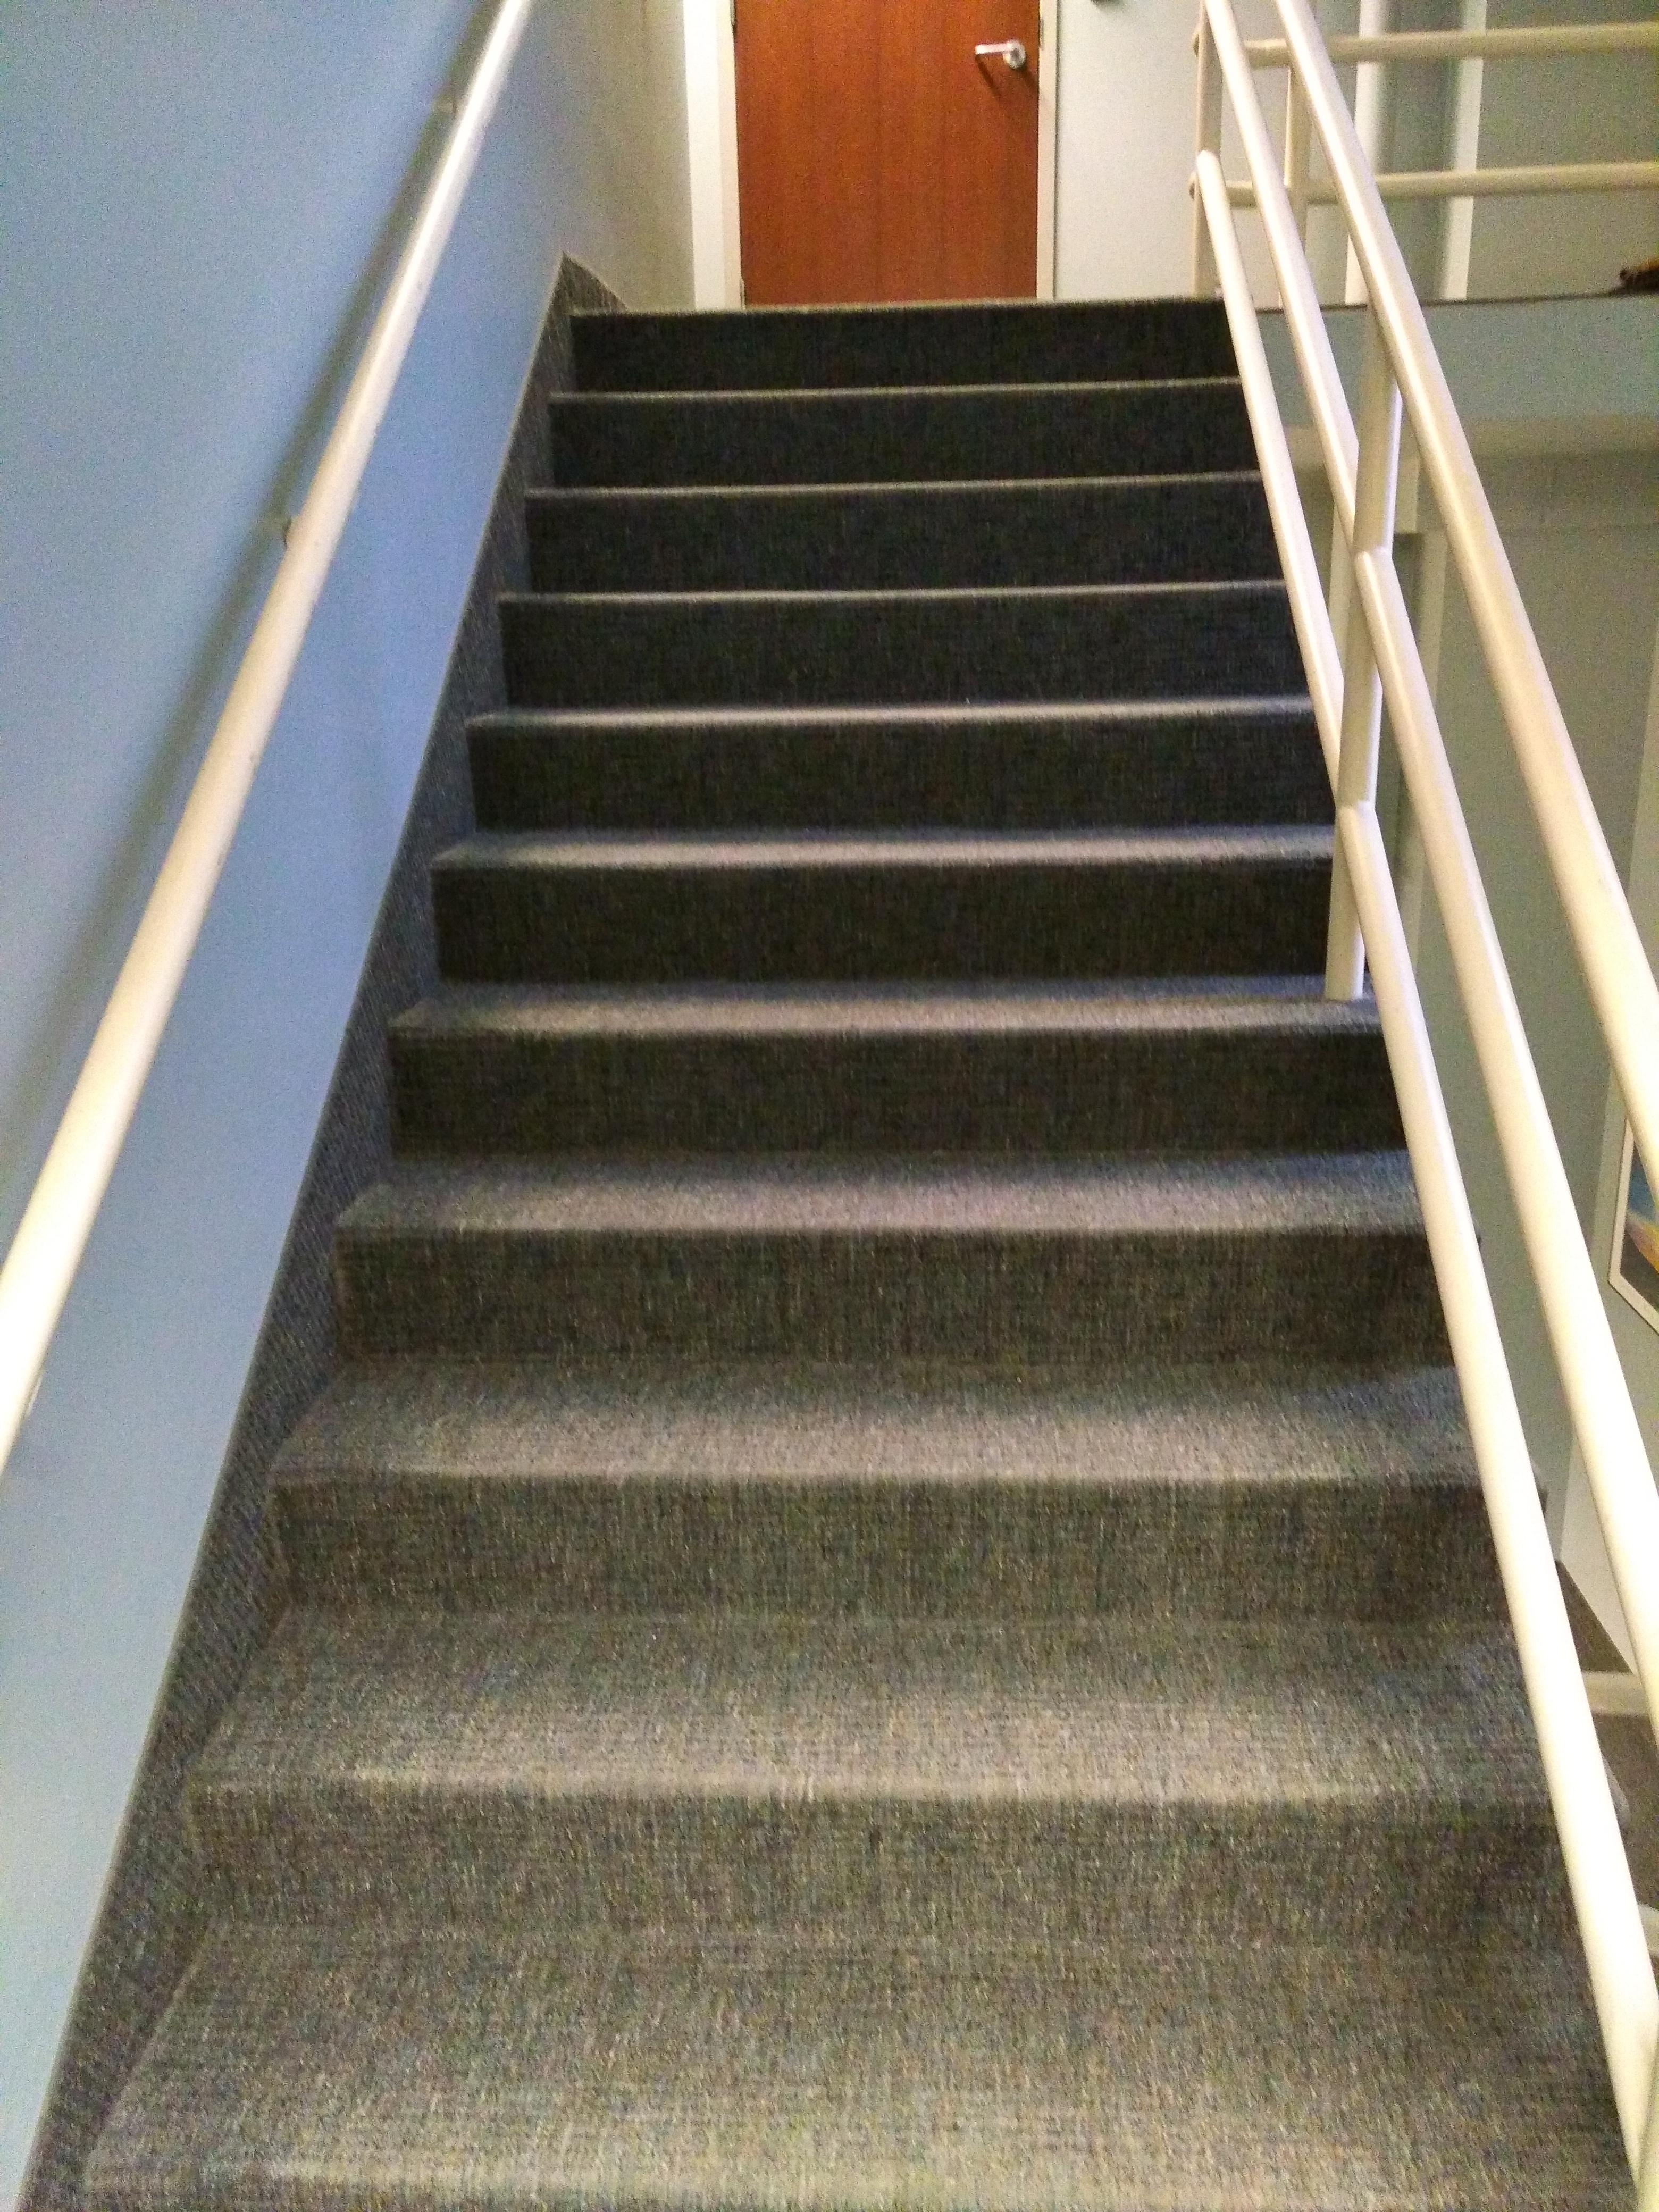stairs_up: (256, 246, 1542, 2148)
